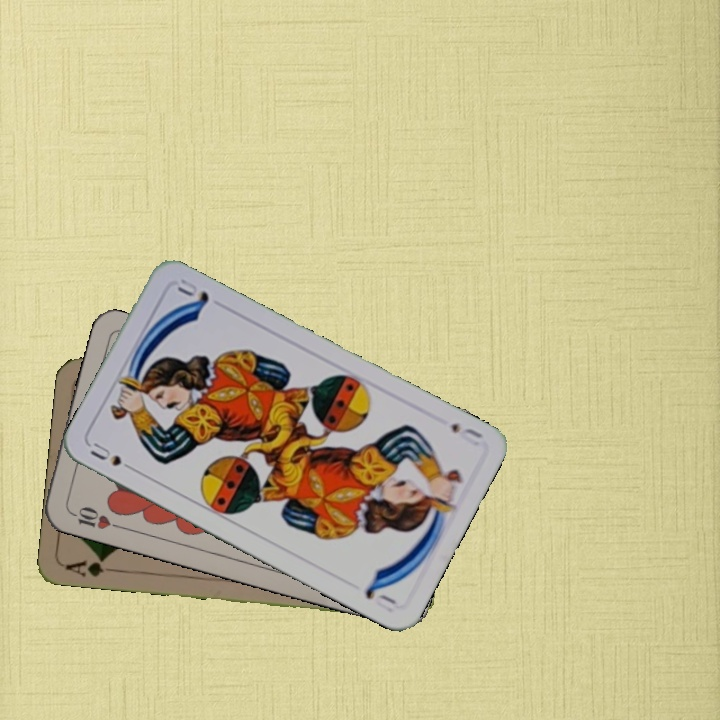GA: (62, 553, 121, 579)
H10: (65, 502, 123, 532)
SU: (86, 438, 140, 476), (447, 419, 486, 449)
